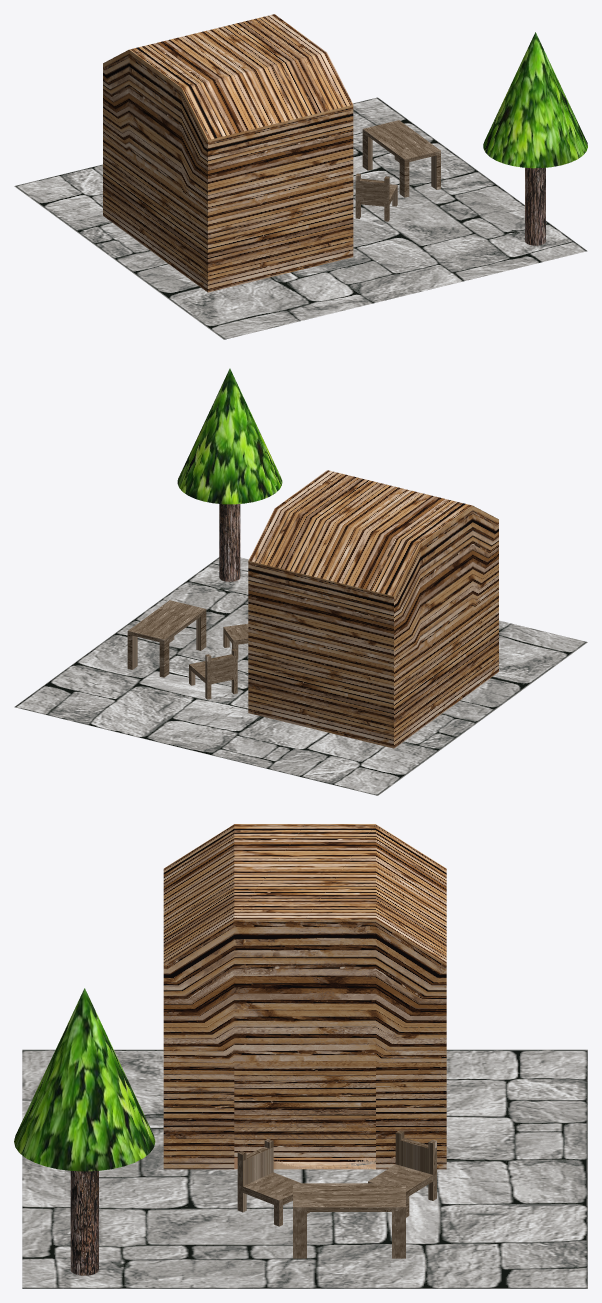
The model's file is casa2.fbx.
The picture shows the model from 3 angles, top to bottom: view 1: azimuth 30°, elevation 25°; view 2: azimuth 150°, elevation 25°; view 3: azimuth 270°, elevation 25°; orthographic projection. The views are drawn at different scales.
Visible parts, largest first — view 1: Cube, Plano, Cono, Cubo.002, Cilindro, Cubo; view 2: Cube, Plano, Cono, Cubo.002, Cilindro, Cubo.001, Cubo; view 3: Cube, Plano, Cono, Cubo.002, Cilindro, Cubo, Cubo.001.
Boxes of the visible parts, x1,y1,x2,y2 form: Cube: (103, 14, 353, 292); Plano: (14, 97, 587, 339); Cono: (483, 32, 587, 168); Cubo.002: (362, 120, 440, 197); Cilindro: (525, 167, 545, 245); Cubo: (355, 173, 397, 221); Cube: (248, 470, 498, 748); Plano: (14, 557, 587, 795); Cono: (177, 368, 282, 504); Cubo.002: (127, 600, 206, 677); Cilindro: (219, 504, 240, 581); Cubo.001: (189, 648, 237, 699); Cubo: (223, 623, 248, 658); Cube: (163, 824, 446, 1169); Plano: (22, 1049, 587, 1288); Cono: (14, 988, 155, 1171); Cubo.002: (293, 1183, 405, 1258); Cilindro: (70, 1171, 98, 1275); Cubo: (237, 1139, 309, 1226); Cubo.001: (368, 1130, 436, 1217).
Size of the model in its own units: 2090 by 1100 by 2029.
Materials: 7 (7 with a texture image).
